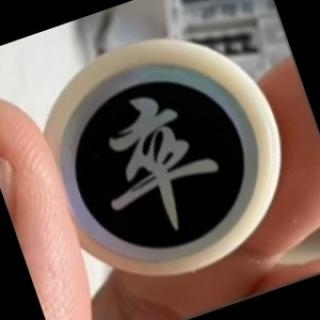qizi: (44, 42, 286, 272)
